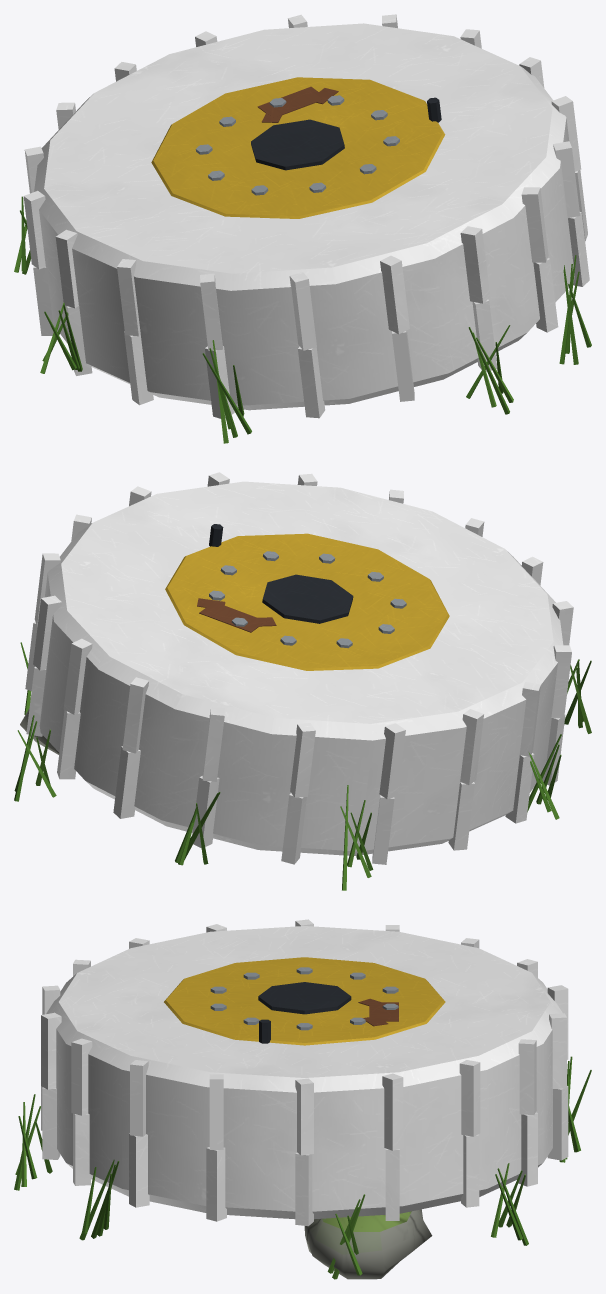
The model's file is wheel_loose_big.glb.
3 renders of one model, top to bottom at view 1: azimuth 30°, elevation 25°; view 2: azimuth 150°, elevation 25°; view 3: azimuth 270°, elevation 25°, orthographic. The views are drawn at different scales.
Visible parts, largest first — view 1: wheel_loose_big; view 2: wheel_loose_big; view 3: wheel_loose_big.
Boxes of the visible parts, <box> form: wheel_loose_big: <box>14,14,591,443</box>; wheel_loose_big: <box>14,472,591,890</box>; wheel_loose_big: <box>14,919,591,1279</box>.
Bounding box in the file's own units: 2.96 × 1.17 × 2.91.
Materials: 9 (9 with a texture image).
